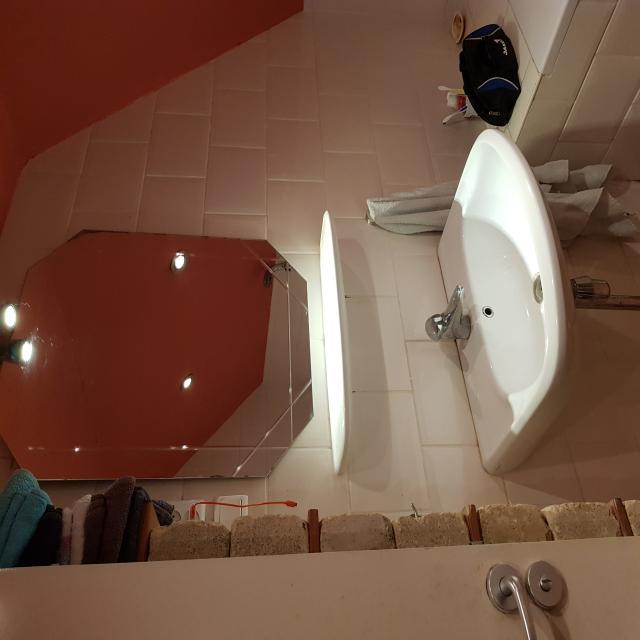wastafel: (123, 564, 385, 640)
